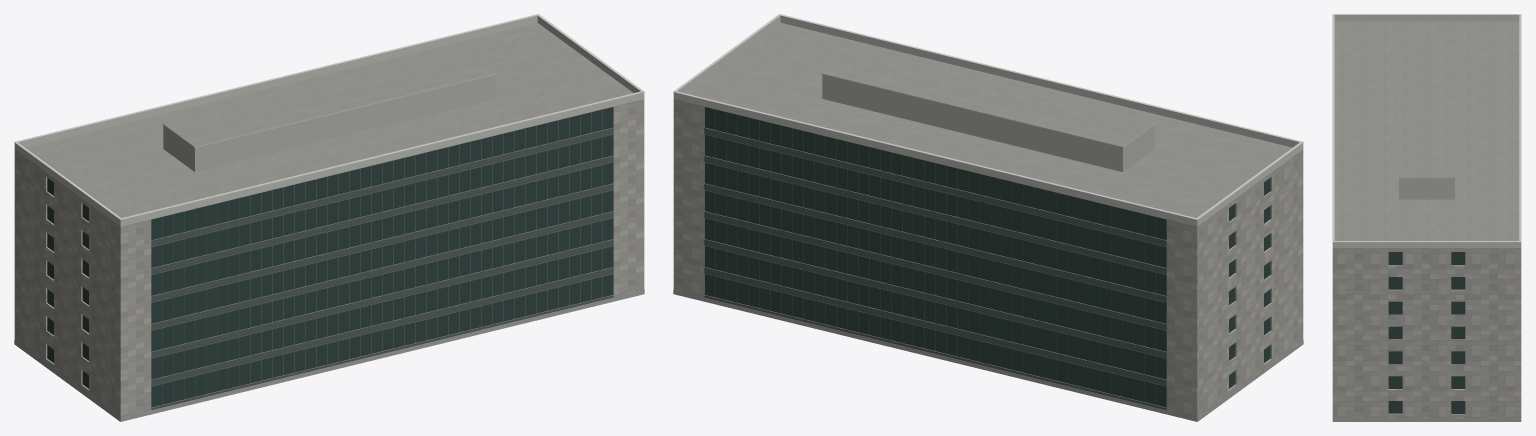
3 renders of one model, left to right at view 1: azimuth 30°, elevation 25°; view 2: azimuth 150°, elevation 25°; view 3: azimuth 270°, elevation 25°, orthographic. The views are drawn at different scales.
Parts seen in each view (by area): view 1: sanhak__glass, sanhak__roof, sanhak__wall, sanhak__spandrel, sanhak__parapet, sanhak__frame, sanhak__wall2, sanhak__trim, sanhak__base; view 2: sanhak__glass, sanhak__roof, sanhak__wall, sanhak__spandrel, sanhak__parapet, sanhak__frame, sanhak__wall2, sanhak__trim, sanhak__base; view 3: sanhak__roof, sanhak__wall, sanhak__glass, sanhak__parapet, sanhak__trim, sanhak__wall2, sanhak__base.
Boxes of the visible parts, x1,y1,x2,y2 form: sanhak__glass: (47,107,613,407); sanhak__roof: (25,22,633,217); sanhak__wall: (14,99,644,421); sanhak__spandrel: (151,128,613,409); sanhak__parapet: (14,15,644,226); sanhak__frame: (151,109,612,404); sanhak__wall2: (163,74,495,171); sanhak__trim: (14,14,644,220); sanhak__base: (14,290,644,421); sanhak__glass: (704,107,1270,407); sanhak__roof: (684,22,1292,217); sanhak__wall: (673,99,1303,421); sanhak__spandrel: (704,128,1166,409); sanhak__parapet: (673,15,1303,226); sanhak__frame: (705,109,1166,404); sanhak__wall2: (822,74,1154,171); sanhak__trim: (673,14,1303,220); sanhak__base: (673,290,1303,421); sanhak__roof: (1334,21,1519,240); sanhak__wall: (1332,248,1521,418); sanhak__glass: (1388,252,1465,413); sanhak__parapet: (1332,15,1521,247); sanhak__trim: (1332,14,1521,242); sanhak__wall2: (1399,178,1454,199); sanhak__base: (1332,418,1521,421).
Bounding box in the file's own units: 76.8 × 30.9 × 27.
Materials: 9 (2 with a texture image).
